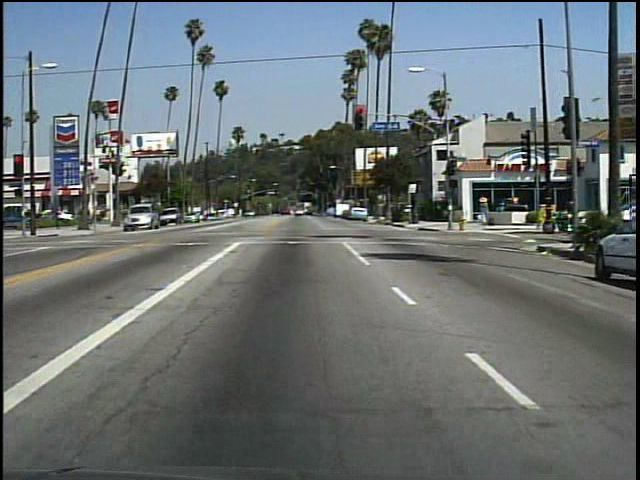person: (558, 194, 582, 235), (475, 192, 491, 227)
